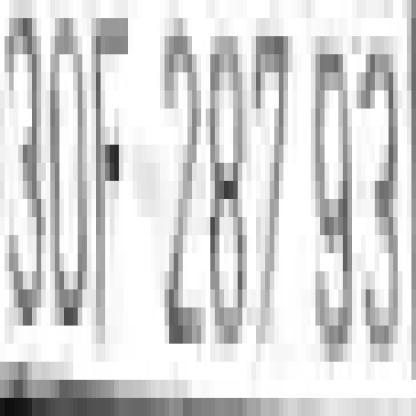0: (50, 18, 87, 326)
2: (165, 18, 201, 326)
3: (356, 54, 398, 326), (9, 18, 41, 326)
7: (247, 36, 288, 326)
8: (206, 36, 242, 326)
9: (306, 54, 348, 344)
F: (92, 18, 132, 326)
